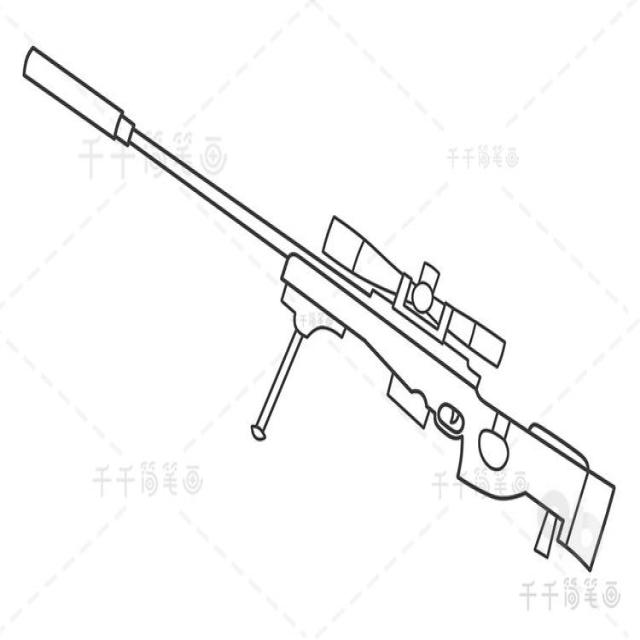gun: (22, 41, 616, 571)
